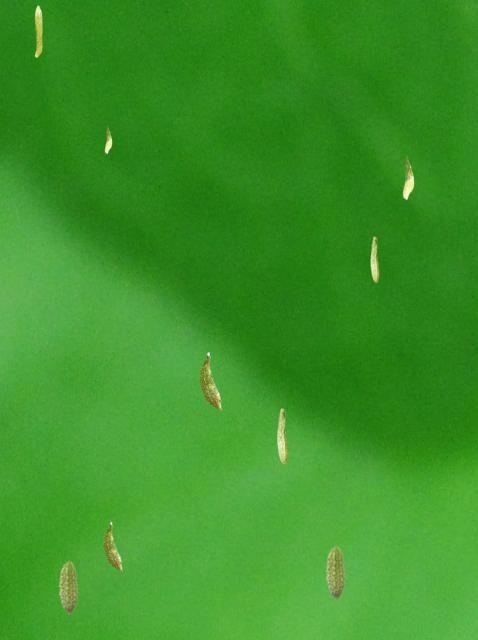ampalaya: (198, 352, 222, 410), (58, 560, 78, 615), (325, 545, 345, 600), (102, 521, 123, 571), (276, 408, 288, 464), (402, 155, 414, 200), (34, 5, 42, 57), (370, 236, 379, 282), (104, 125, 112, 154)
